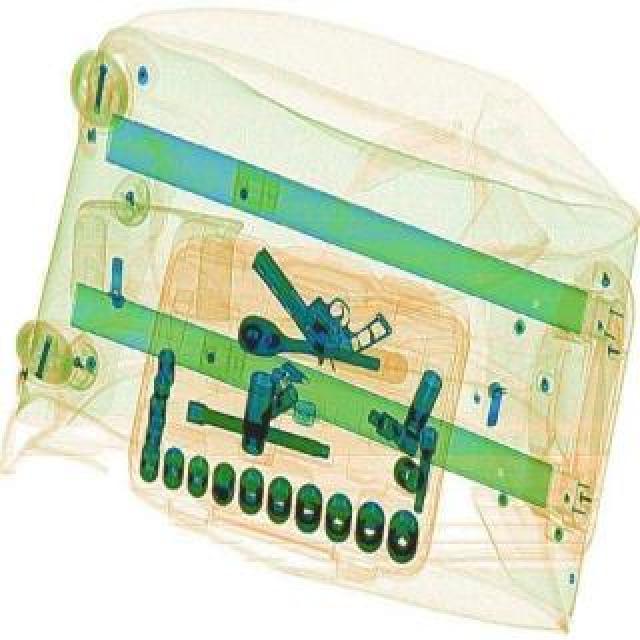gun: (238, 216, 394, 374)
